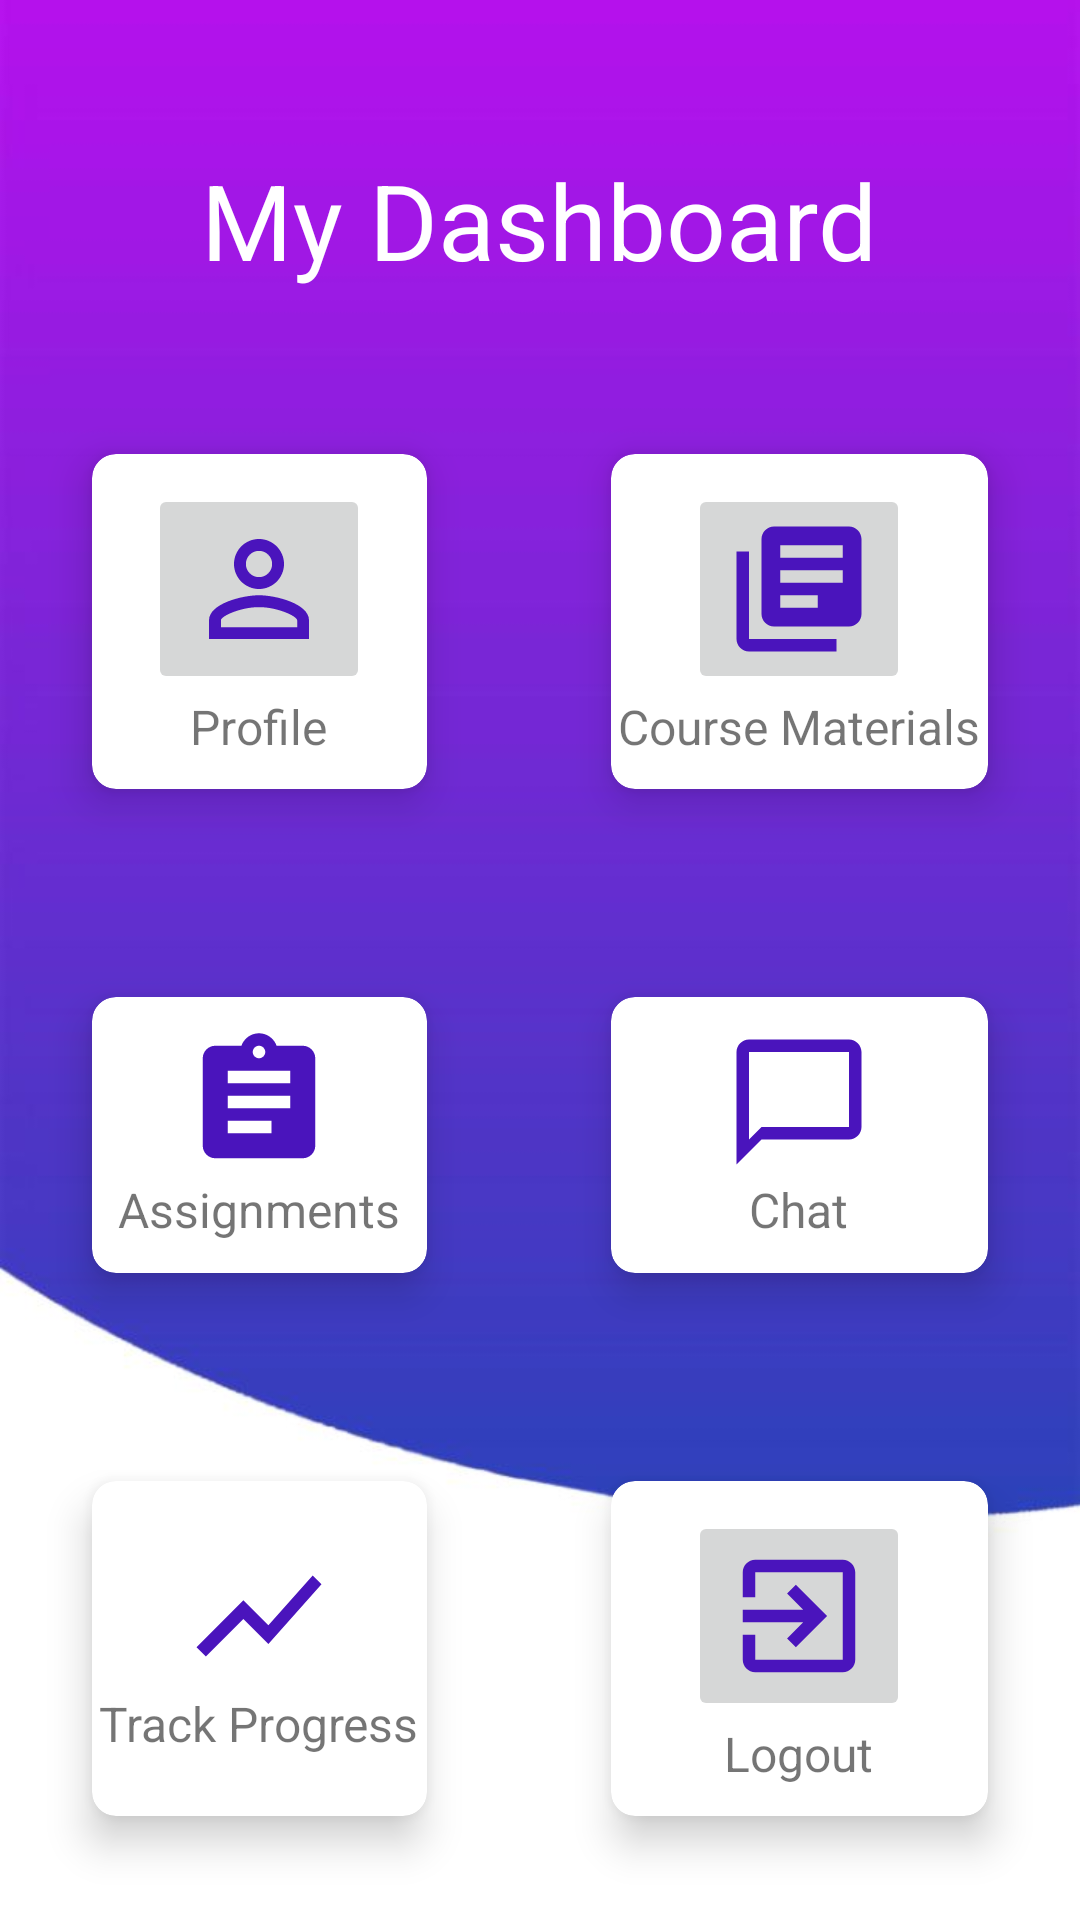

Named icons in this screenshot (1080 × 1920) and their centers, [x,y]:
exit to app: [799,1616]
library books: [799,589]
person: [259,589]
show chart: [259,1616]
